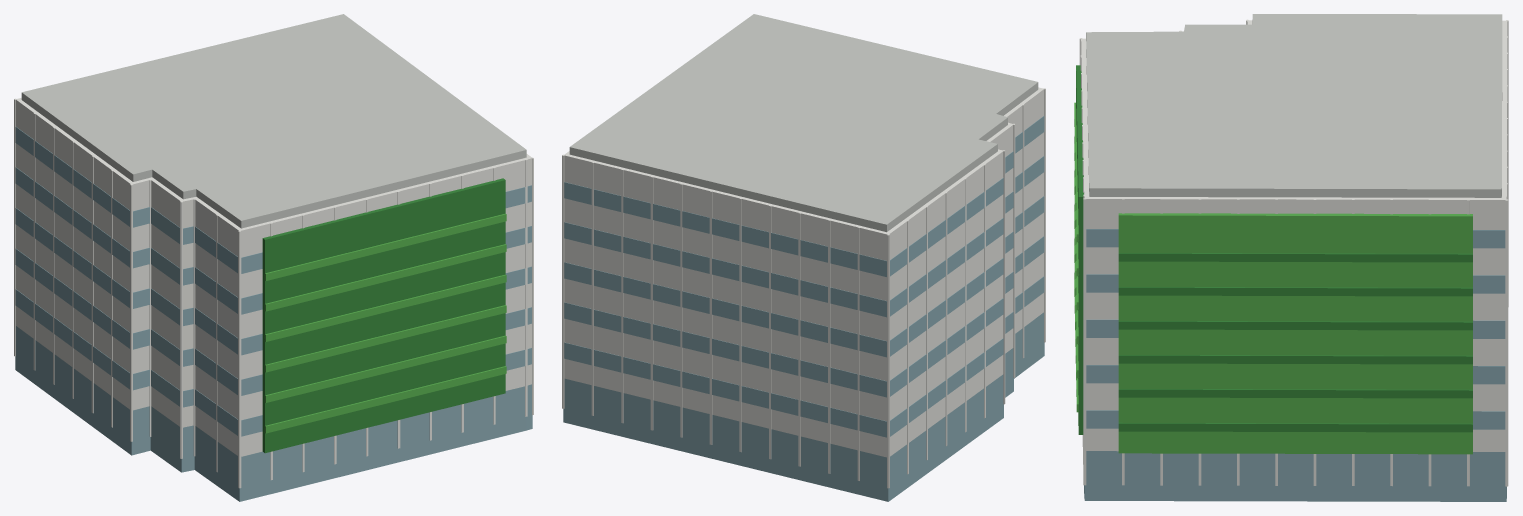
Rendered from parklane-cmp.glb.
3 renders of one model, left to right at view 1: azimuth 30°, elevation 25°; view 2: azimuth 150°, elevation 25°; view 3: azimuth 270°, elevation 25°, orthographic. The views are drawn at different scales.
Parts seen in each view (by area): view 1: parklane-cmp; view 2: parklane-cmp; view 3: parklane-cmp.
Boxes of the visible parts, box(x1,y1,x2,y2) form: parklane-cmp: box(14, 14, 533, 501); parklane-cmp: box(562, 14, 1045, 501); parklane-cmp: box(1074, 14, 1508, 501).
Size of the model in its own units: 69.34 by 54.8 by 69.53.
